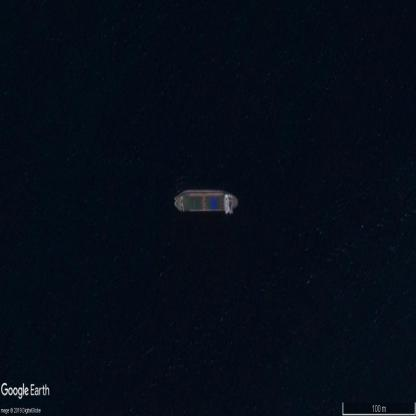ship: (173, 189, 239, 214)
